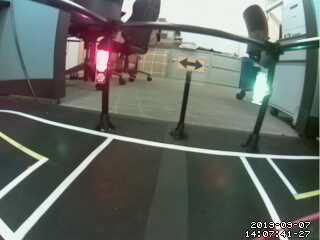Left_Right_sign: (174, 50, 208, 77)
Traffic_light_green: (252, 65, 269, 109)
Traffic_light_red: (93, 47, 111, 93)
